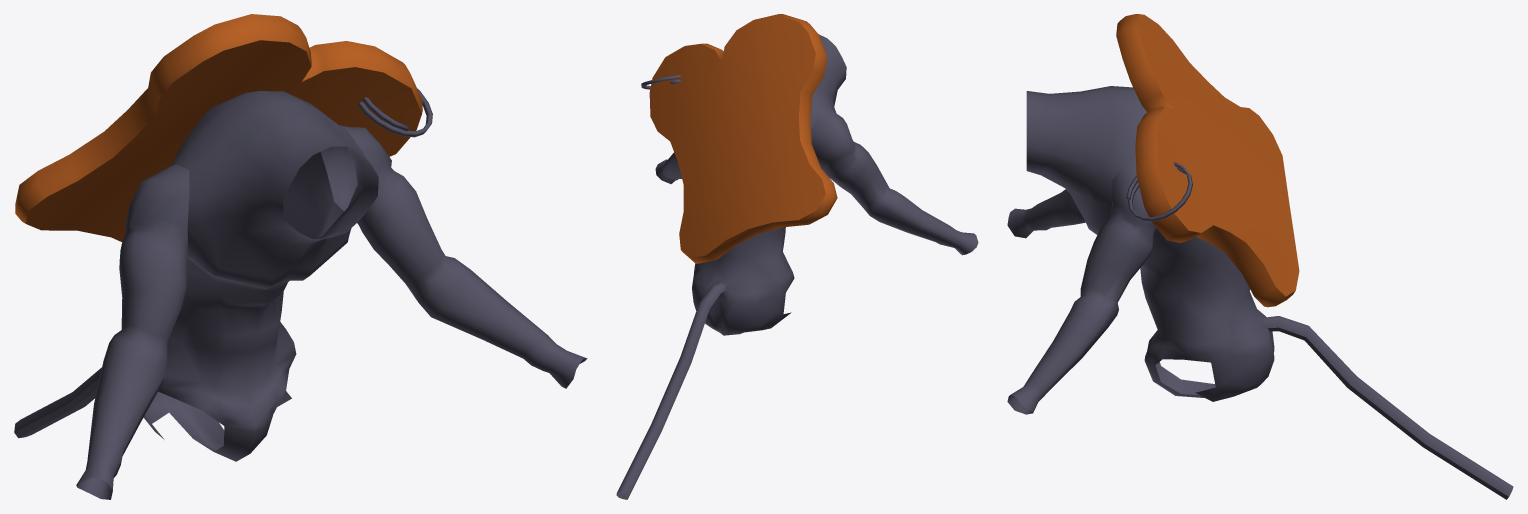
The model's file is Udolfo.obj.
3 views of the same model, side by side, from view 1: azimuth 30°, elevation 25°; view 2: azimuth 150°, elevation 25°; view 3: azimuth 270°, elevation 25° (orthographic). The views are drawn at different scales.
Visible parts, largest first — view 1: Ratte, Toast, Ring; view 2: Toast, Ratte; view 3: Ratte, Toast, Ring.
Boxes of the visible parts, <box> form: Ratte: <box>14,91,587,499</box>; Toast: <box>15,14,422,242</box>; Ring: <box>357,88,432,137</box>; Toast: <box>649,14,837,263</box>; Ratte: <box>616,34,978,499</box>; Ratte: <box>1007,86,1513,499</box>; Toast: <box>1116,14,1299,307</box>; Ring: <box>1126,162,1192,221</box>.
Bounding box in the file's own units: 120 × 135 × 132.
